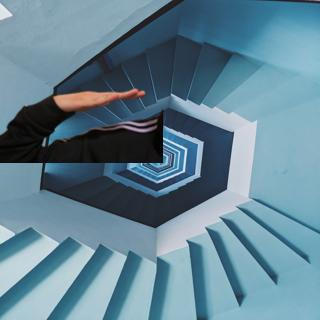Wait: (52, 79, 144, 114)
